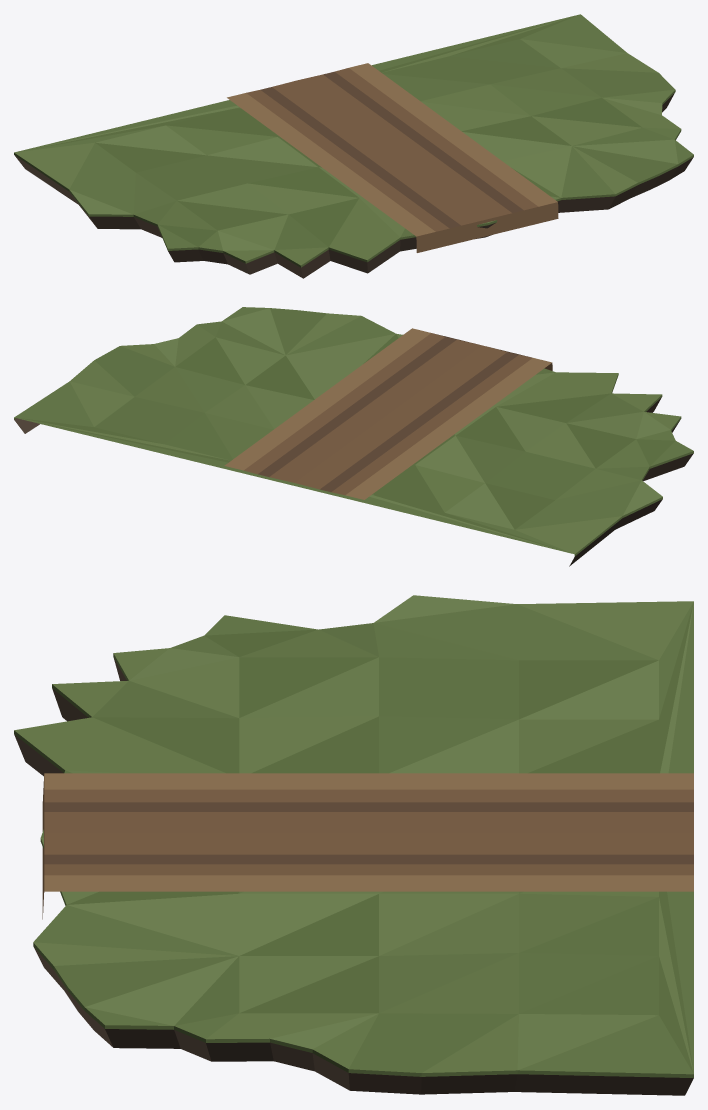
The model's file is lwf_gate_apron_v1.glb.
3 renders of one model, top to bottom at view 1: azimuth 30°, elevation 25°; view 2: azimuth 150°, elevation 25°; view 3: azimuth 270°, elevation 25°, orthographic. The views are drawn at different scales.
Parts seen in each view (by area): view 1: GateApron, Lane; view 2: GateApron, Lane; view 3: GateApron, Lane.
Part boxes in pixels (x1=…): GateApron: x1=14, y1=14, x2=693, y2=278; Lane: x1=227, y1=63, x2=558, y2=252; GateApron: x1=14, y1=307, x2=693, y2=566; Lane: x1=224, y1=328, x2=552, y2=499; GateApron: x1=14, y1=595, x2=693, y2=1095; Lane: x1=42, y1=773, x2=693, y2=919.
Size of the model in its own units: 16.2 by 0.532 by 9.72.
Materials: 1 (1 with a texture image).
